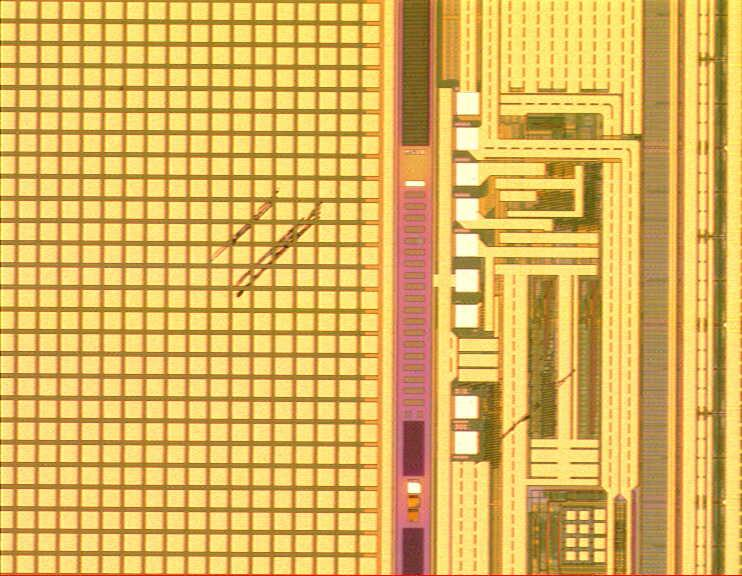SCRATCH: (203, 186, 583, 446)
